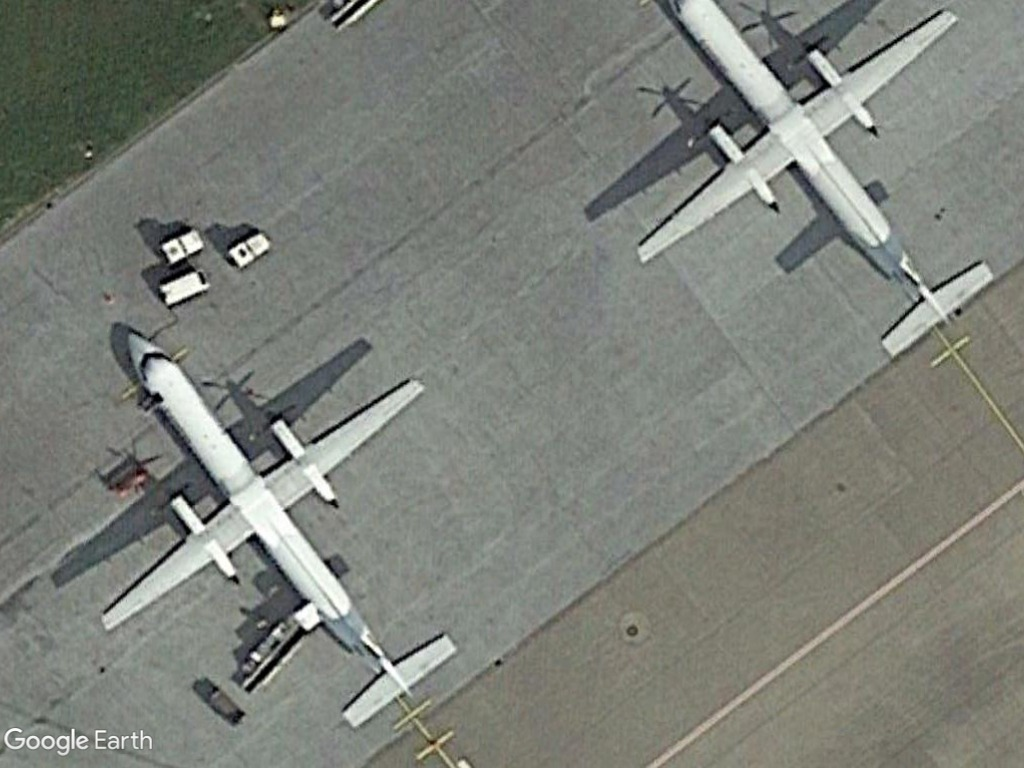propeller: (91, 327, 460, 728)
